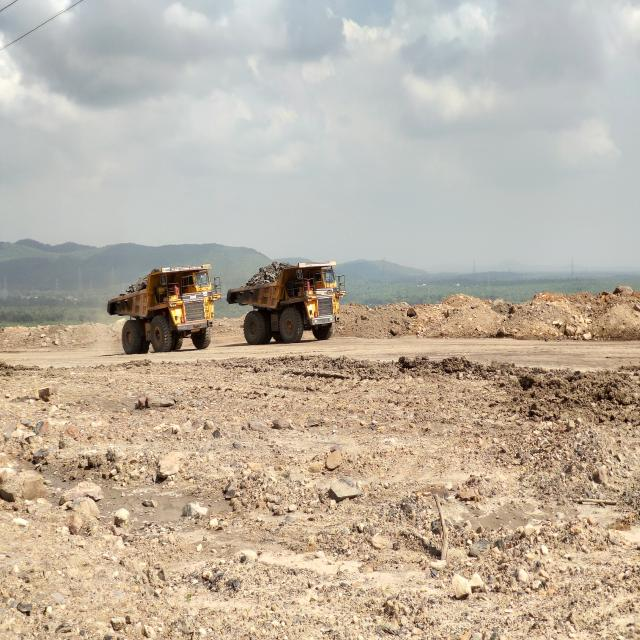dump_truck: (106, 266, 220, 354), (224, 263, 343, 346)
